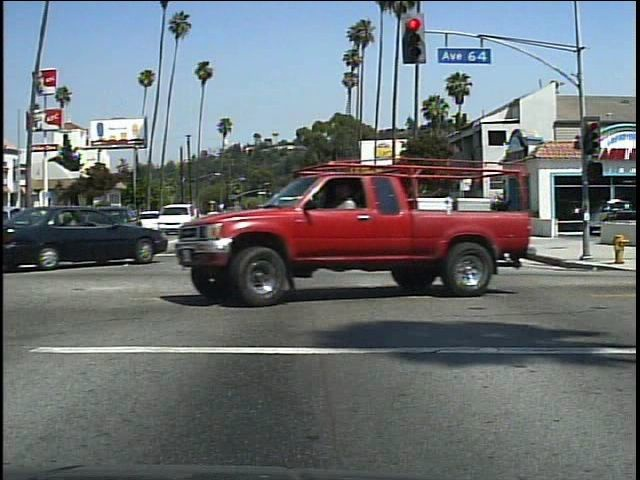person: (331, 177, 372, 293), (475, 200, 499, 236)
